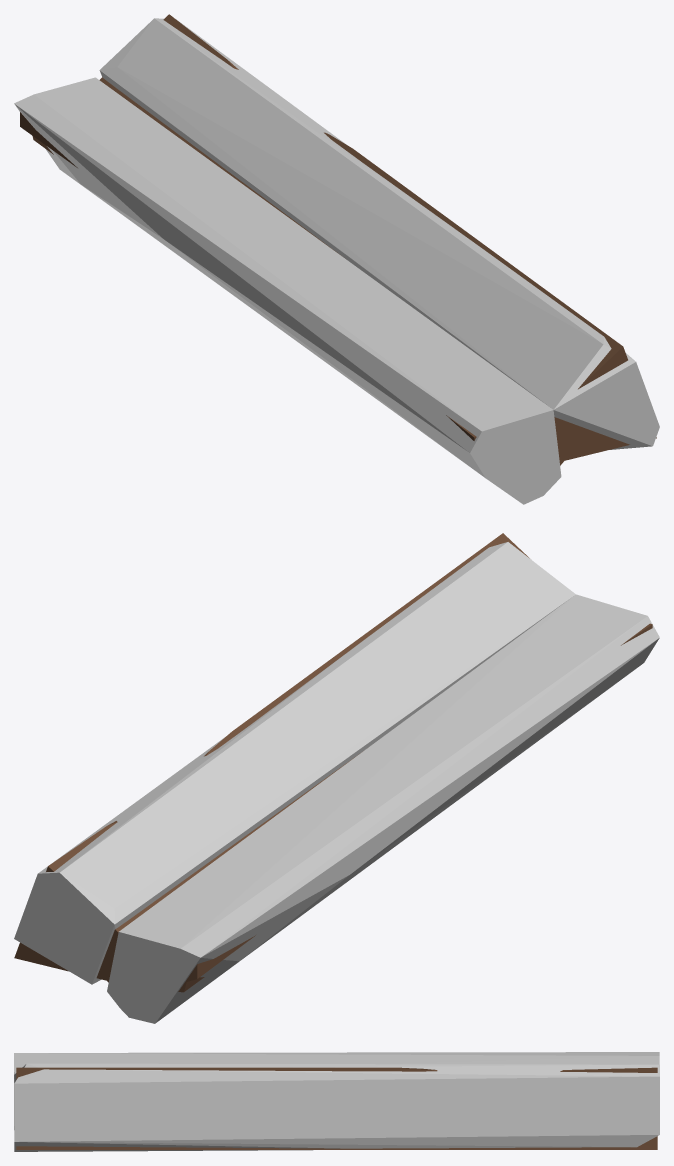
The model's file is SM_Bld_Roof_Trim_01.fbx.
The picture shows the model from 3 angles, top to bottom: view 1: azimuth 30°, elevation 25°; view 2: azimuth 150°, elevation 25°; view 3: azimuth 270°, elevation 25°; orthographic projection. The views are drawn at different scales.
Parts seen in each view (by area): view 1: SM_Bld_Roof_Trim_01_ConvexHulls, SM_Bld_Roof_Trim_01; view 2: SM_Bld_Roof_Trim_01_ConvexHulls, SM_Bld_Roof_Trim_01; view 3: SM_Bld_Roof_Trim_01_ConvexHulls, SM_Bld_Roof_Trim_01.
Boxes of the visible parts, x1,y1,x2,y2 form: SM_Bld_Roof_Trim_01_ConvexHulls: (14,18,659,504); SM_Bld_Roof_Trim_01: (20,14,656,465); SM_Bld_Roof_Trim_01_ConvexHulls: (14,542,659,1023); SM_Bld_Roof_Trim_01: (14,533,652,992); SM_Bld_Roof_Trim_01_ConvexHulls: (14,1052,659,1151); SM_Bld_Roof_Trim_01: (16,1067,657,1149).
Size of the model in its own units: 60.43 by 252 by 40.22.
2 materials, 1 textured.
